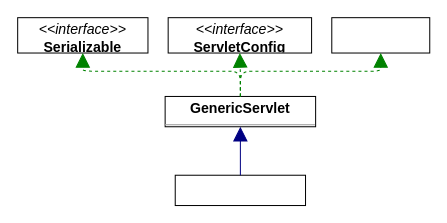
Image size: 447x223. Some labels were removed from this diagram. Each missing label, with the centre of its shape:
"<<interface>> Servlet" belongs at point (380, 35).
"HttpServlet" belongs at point (240, 190).
